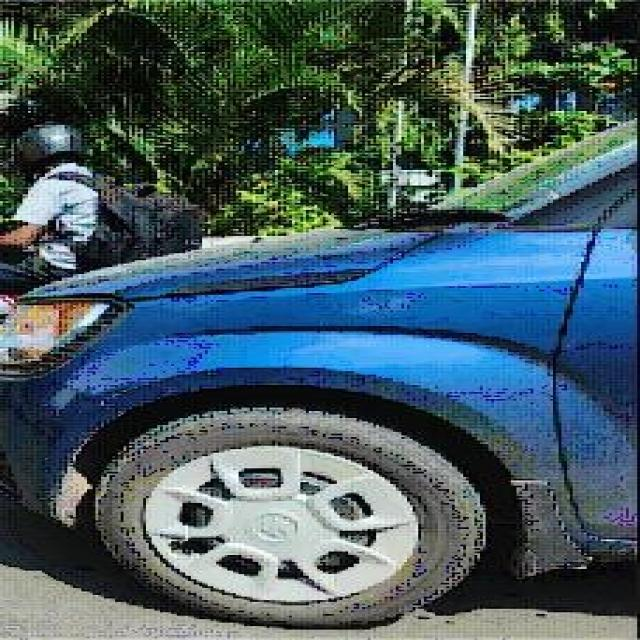scratch: (347, 292, 428, 315)
